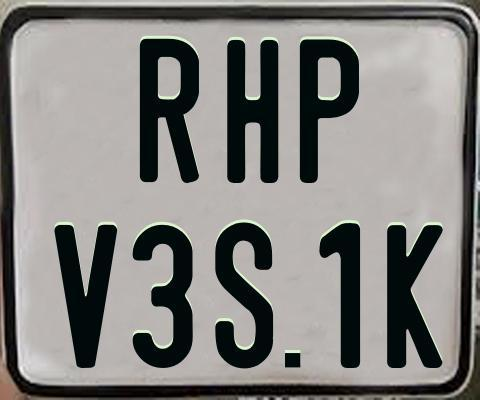1: (317, 221, 358, 366)
3: (132, 225, 195, 373)
H: (226, 37, 282, 180)
K: (384, 223, 442, 371)
P: (298, 39, 359, 188)
R: (140, 37, 205, 183)
S: (215, 219, 274, 367)
V: (52, 222, 119, 366)
